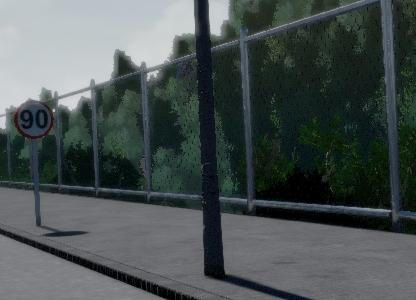Speed_90: (13, 97, 54, 142)
